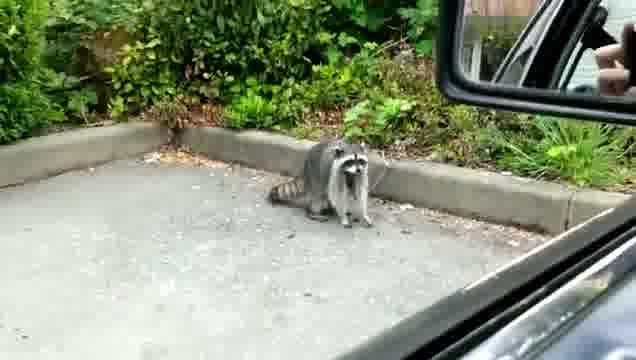raccoon: (269, 139, 375, 227)
